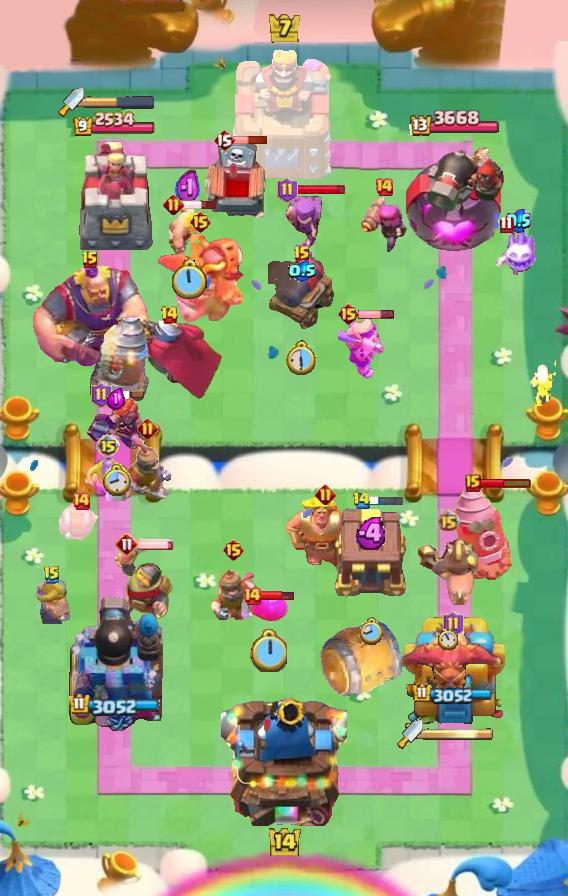archer: (167, 201, 209, 257)
arrows: (338, 316, 384, 380)
bar: (401, 611, 505, 731), (73, 140, 155, 256)
bomb: (332, 505, 412, 599)
dirt: (319, 618, 405, 700)
earthquake: (208, 552, 258, 620), (123, 435, 171, 499)
electro-spirit: (355, 518, 390, 550), (175, 168, 201, 207), (506, 208, 531, 233), (288, 260, 316, 282), (107, 386, 125, 409)
elixir: (249, 628, 287, 671), (170, 259, 207, 301), (286, 340, 318, 376), (101, 462, 131, 496), (360, 617, 384, 646), (438, 628, 458, 650)
elixir-golem-mid: (202, 141, 272, 227)
emote: (294, 184, 345, 197), (479, 477, 532, 489), (367, 494, 404, 507), (259, 590, 295, 603), (137, 538, 175, 550), (182, 199, 219, 211), (358, 308, 395, 319), (109, 390, 145, 400), (233, 135, 268, 145)
firecracker: (115, 543, 173, 626)
freeze: (418, 537, 478, 607)
goblin-giant: (83, 458, 133, 501), (34, 579, 70, 625)
goblin-hut: (284, 493, 366, 579)
heal-spirit: (530, 360, 562, 406)
king-tower: (221, 690, 347, 826), (229, 43, 339, 181)
king-tower-bar: (84, 95, 156, 109), (423, 727, 493, 741)
knight: (56, 502, 106, 546)
lightning: (30, 264, 151, 370)
magic-archer: (450, 485, 516, 583), (90, 316, 150, 408)
miner: (248, 594, 288, 622)
mirror: (494, 229, 542, 277)
mother-witch: (395, 626, 511, 698)
night-witch: (153, 234, 247, 326)
rascal-girl: (281, 190, 325, 268)
royal-giant-evolution: (268, 255, 336, 329)
selected: (407, 110, 499, 139), (72, 111, 156, 138), (68, 692, 159, 715), (413, 684, 493, 705)
tesla-evolution: (84, 394, 148, 452)
text: (96, 434, 120, 458), (115, 532, 139, 556), (189, 210, 212, 234), (336, 302, 359, 326), (436, 508, 459, 532), (223, 538, 246, 562), (277, 177, 298, 203), (91, 382, 112, 408), (444, 611, 465, 637), (213, 128, 235, 152), (163, 194, 185, 215), (137, 418, 158, 439), (316, 483, 337, 504), (374, 177, 394, 197), (71, 491, 91, 511), (242, 586, 262, 606), (161, 305, 180, 325), (352, 491, 372, 510), (293, 245, 311, 265), (81, 250, 99, 270), (43, 565, 61, 585), (465, 474, 481, 492), (499, 215, 513, 233)
tombstone: (360, 195, 408, 257)
tower-bar: (65, 593, 163, 731), (402, 136, 504, 256)
wall-breaker-evolution: (113, 314, 225, 402)
